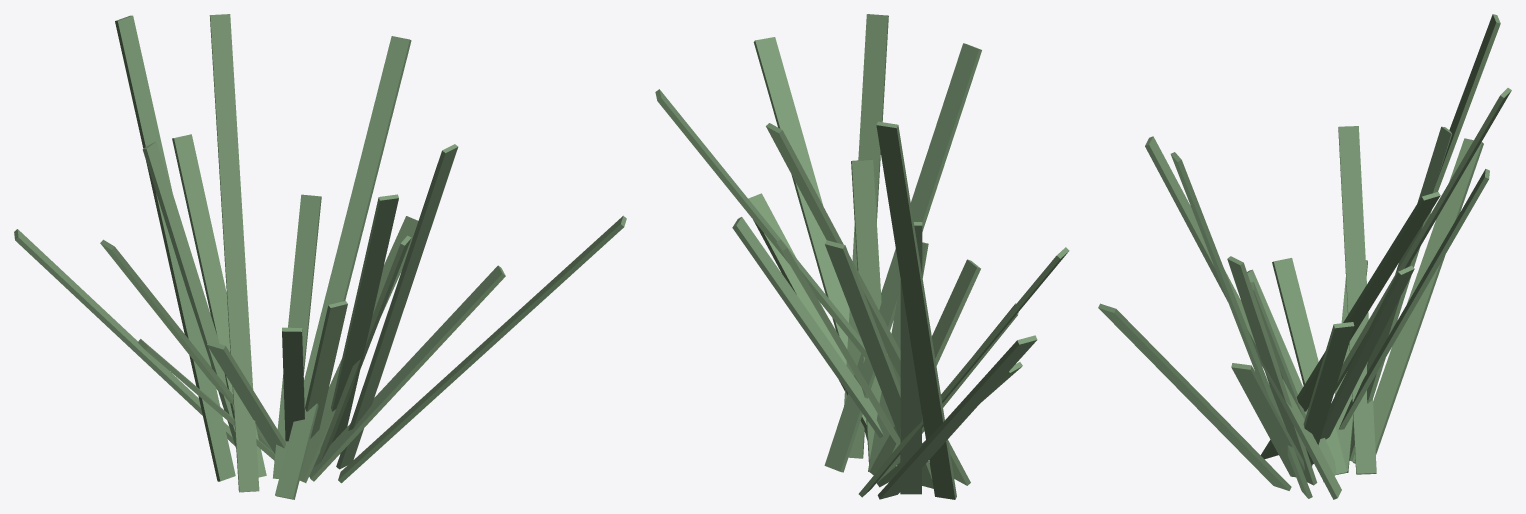
The picture shows the model from 3 angles, left to right: view 1: azimuth 30°, elevation 25°; view 2: azimuth 150°, elevation 25°; view 3: azimuth 270°, elevation 25°; orthographic projection. The views are drawn at different scales.
Visible parts, largest first — view 1: tall-grass-clump; view 2: tall-grass-clump; view 3: tall-grass-clump.
Boxes of the visible parts, bbox=[...] form: tall-grass-clump: bbox=[14, 14, 626, 499]; tall-grass-clump: bbox=[655, 14, 1069, 499]; tall-grass-clump: bbox=[1098, 14, 1511, 499].
Size of the model in its own units: 1.26 by 1.13 by 1.02.
